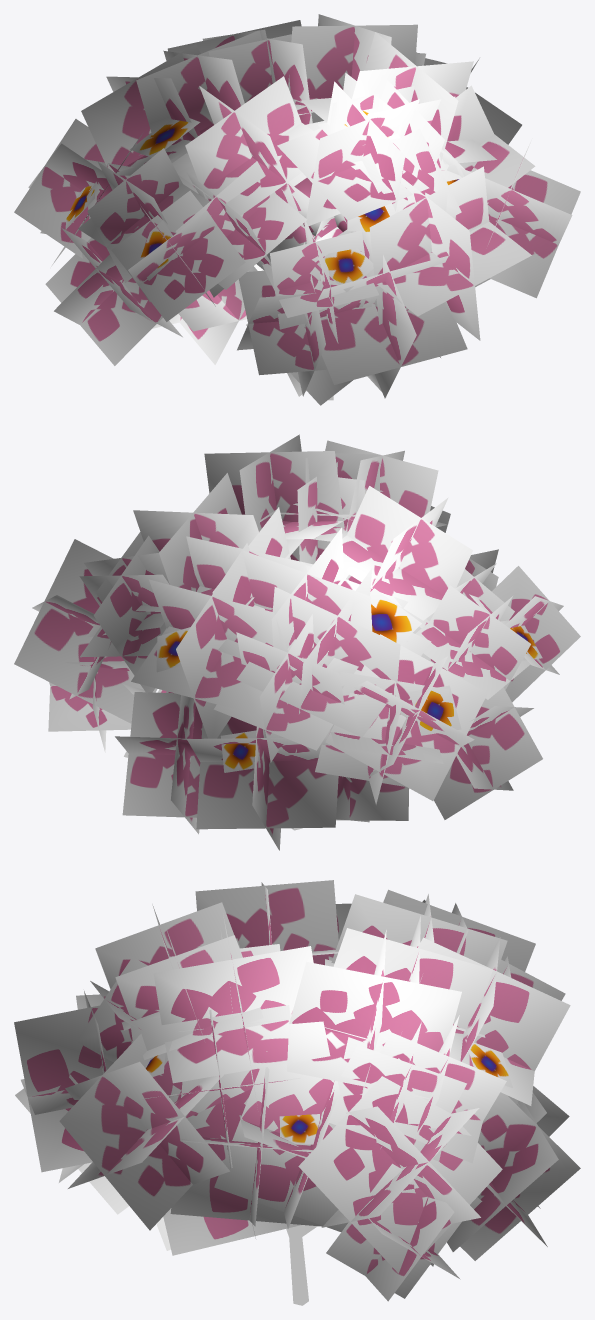
Rendered from model_bush_01b.fbx.
3 views of the same model, one above another, from view 1: azimuth 30°, elevation 25°; view 2: azimuth 150°, elevation 25°; view 3: azimuth 270°, elevation 25° (orthographic). The views are drawn at different scales.
Parts seen in each view (by area): view 1: TSP_Bush_01B; view 2: TSP_Bush_01B; view 3: TSP_Bush_01B.
Part boxes in pixels (x1=…): TSP_Bush_01B: x1=14, y1=14, x2=580, y2=405; TSP_Bush_01B: x1=14, y1=434, x2=580, y2=850; TSP_Bush_01B: x1=14, y1=880, x2=580, y2=1305.
Bounding box in the file's own units: 2.53 × 1.74 × 2.3.
